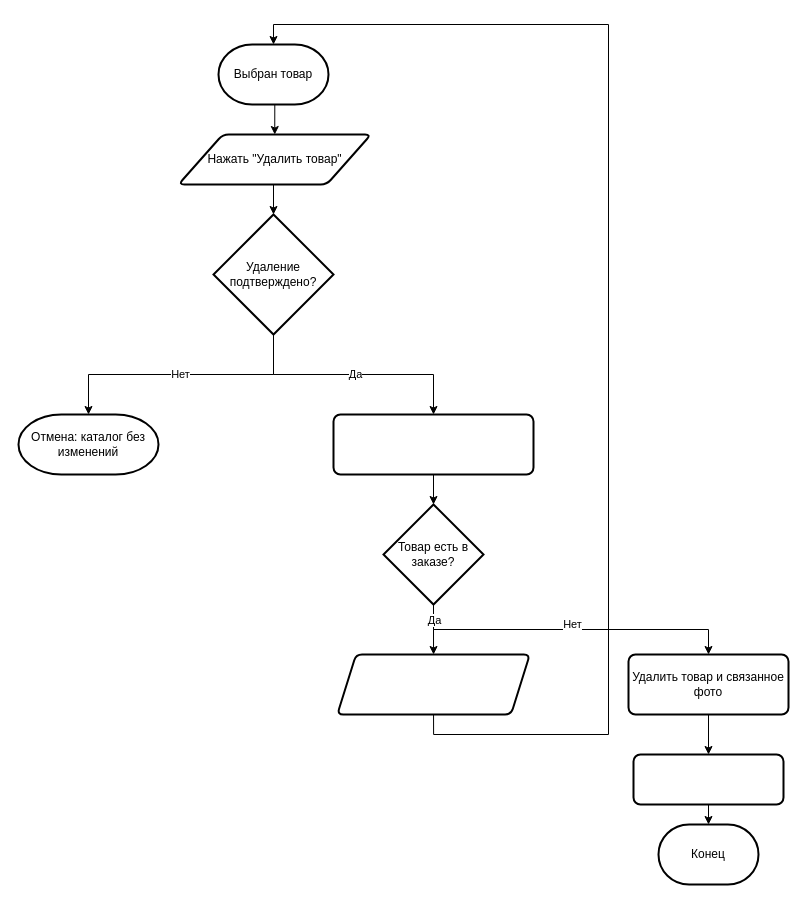
Image size: 806x903. Some labels were removed from this diagram. Each missing label, with the centre of its shape:
"Обновить каталог" belongs at (x=708, y=779).
"Проверить: товар есть в позициях заказа?" belongs at (x=433, y=444).
"Сообщение: товар нельзя удалить" belongs at (x=433, y=684).
